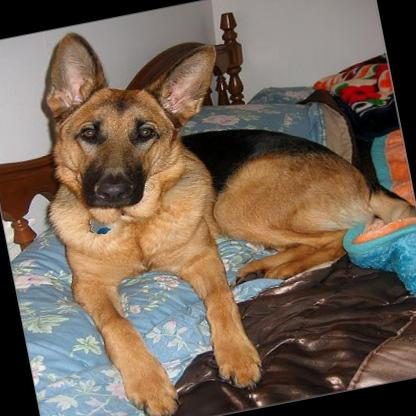German_shepherd: (11, 0, 416, 416)
